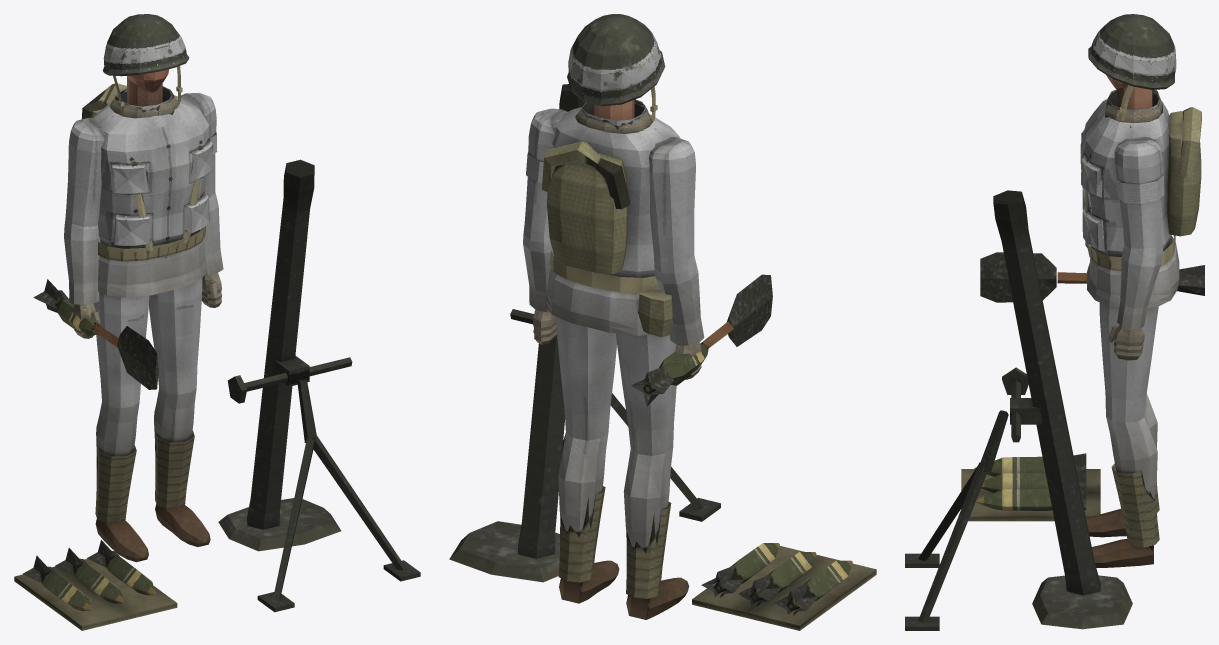
The model's file is mortar.glb.
3 renders of one model, left to right at view 1: azimuth 30°, elevation 25°; view 2: azimuth 150°, elevation 25°; view 3: azimuth 270°, elevation 25°, orthographic. The views are drawn at different scales.
Visible parts, largest first — view 1: mortar_LOD0; view 2: mortar_LOD0; view 3: mortar_LOD0.
Part boxes in pixels (x1,y1,x2,y2): mortar_LOD0: (14,14,420,630); mortar_LOD0: (449,14,876,630); mortar_LOD0: (905,14,1204,630).
Size of what is drawn, in the model's own units: 1.11 by 1.78 by 0.904.
1 material, 1 textured.
